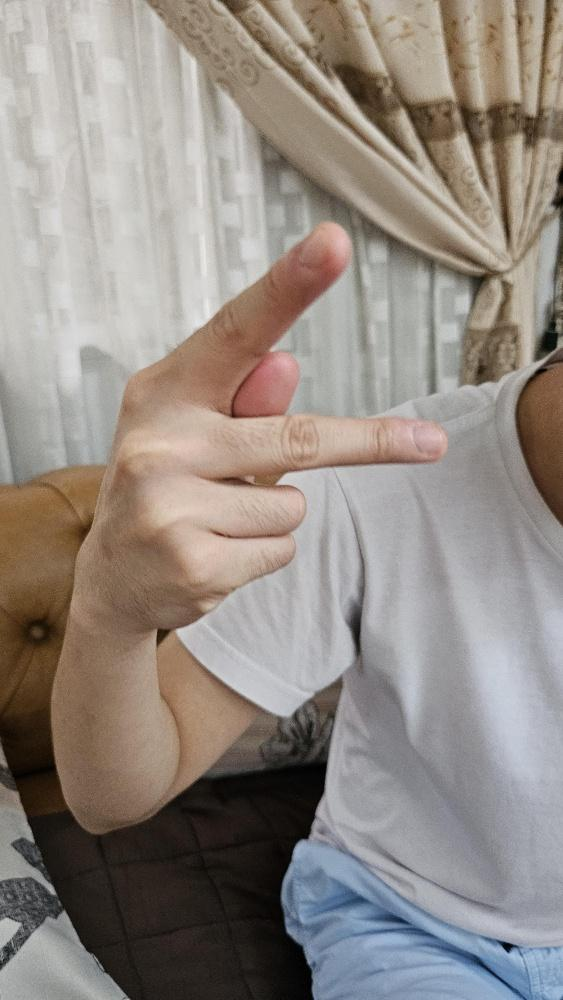k: (73, 218, 449, 633)
